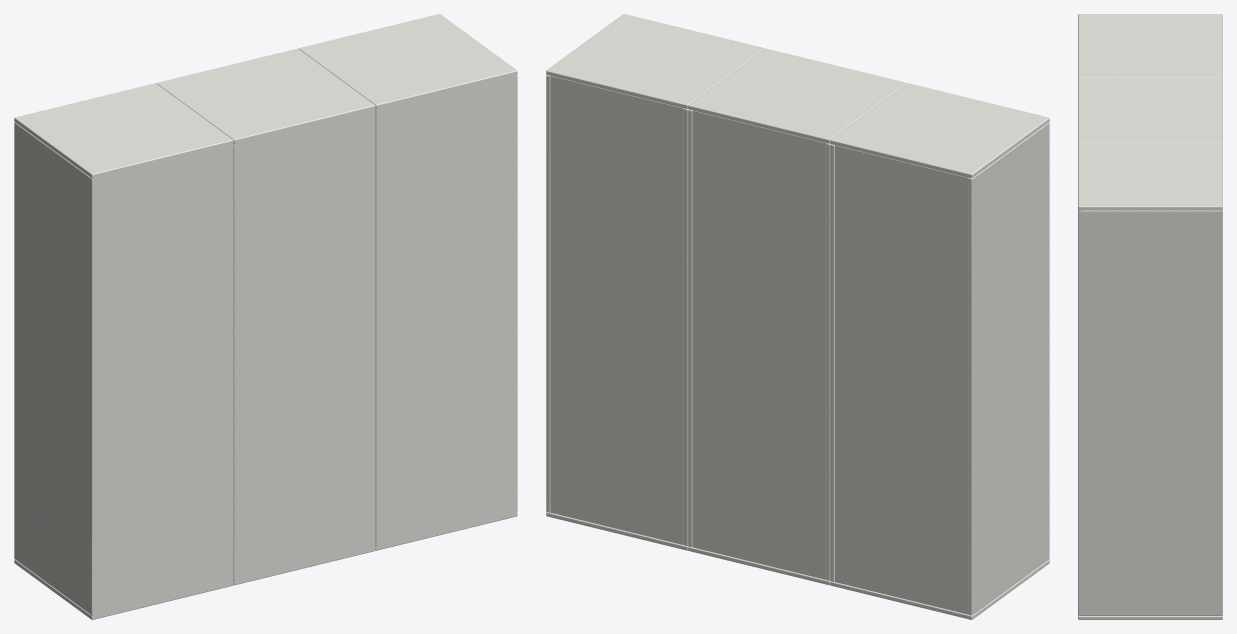
File: platsa-mobile.glb
The picture shows the model from 3 angles, left to right: view 1: azimuth 30°, elevation 25°; view 2: azimuth 150°, elevation 25°; view 3: azimuth 270°, elevation 25°; orthographic projection. The views are drawn at different scales.
Visible parts, largest first — view 1: PLATSA / FONNES Wardrobe, 3 doors; view 2: PLATSA / FONNES Wardrobe, 3 doors; view 3: PLATSA / FONNES Wardrobe, 3 doors.
Boxes of the visible parts, box(x1,y1,x2,y2) form: PLATSA / FONNES Wardrobe, 3 doors: box(14, 14, 517, 619); PLATSA / FONNES Wardrobe, 3 doors: box(546, 14, 1049, 619); PLATSA / FONNES Wardrobe, 3 doors: box(1078, 14, 1222, 619).
Bounding box in the file's own units: 1.8 × 1.81 × 0.571.
1 material, 1 textured.
